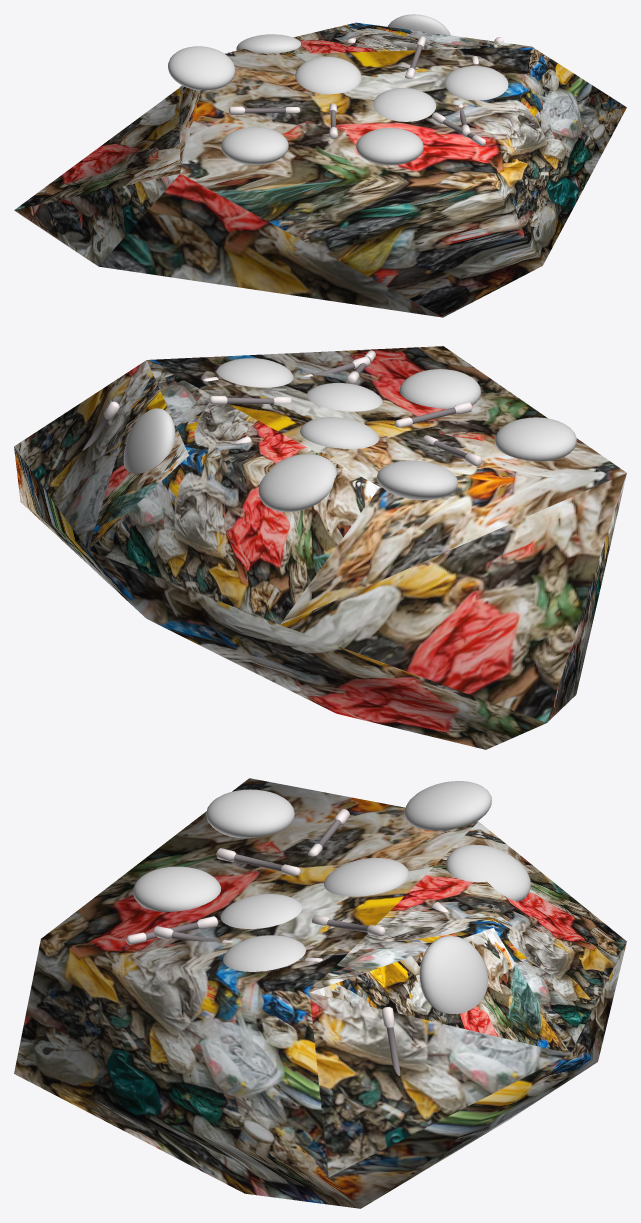
The model's file is CHECKSKRALD5.fbx.
3 views of the same model, one above another, from view 1: azimuth 30°, elevation 25°; view 2: azimuth 150°, elevation 25°; view 3: azimuth 270°, elevation 25° (orthographic). The views are drawn at different scales.
Visible parts, largest first — view 1: Icosphere; view 2: Icosphere; view 3: Icosphere.
Part boxes in pixels (bbox=[...]): Icosphere: bbox=[14, 14, 626, 317]; Icosphere: bbox=[14, 346, 626, 749]; Icosphere: bbox=[14, 778, 626, 1208].
Bounding box in the file's own units: 139 × 46.94 × 107.
Materials: 4 (1 with a texture image).
